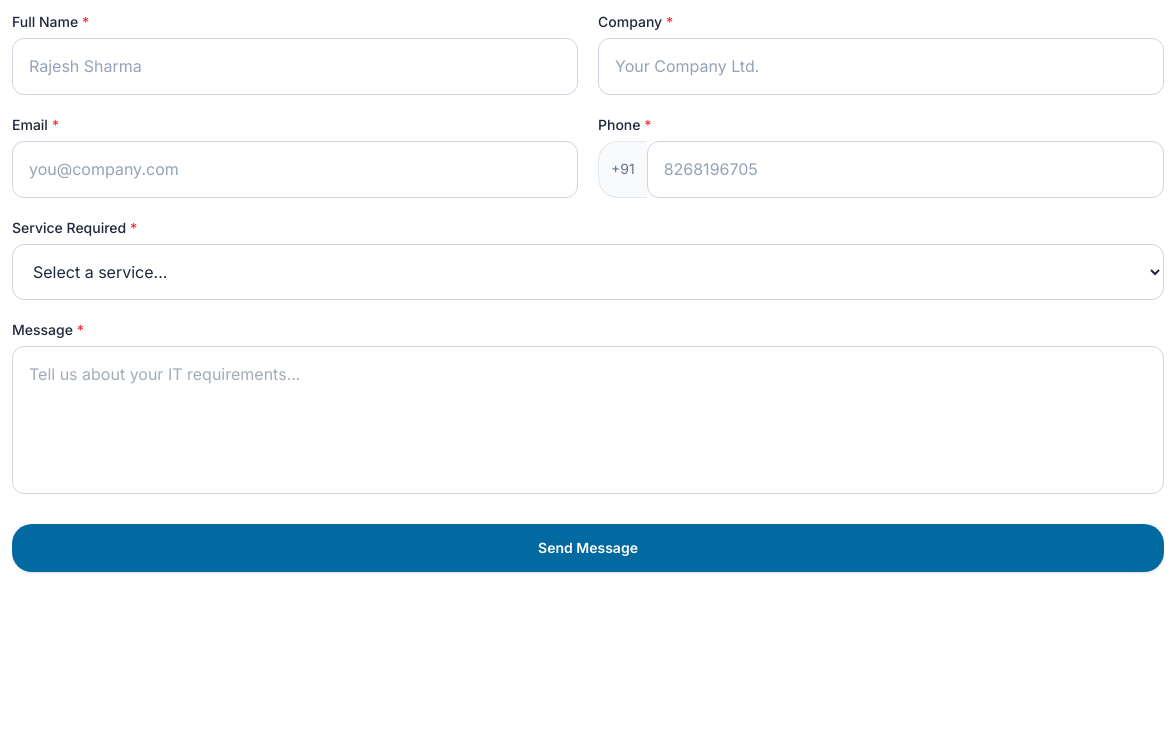
ContactForm › shows validation error for empty full name
The width and height of the screenshot is (1176, 732).
Click the button "Send Message". click: coordinates (588, 548)
box: [12,524,1164,572]
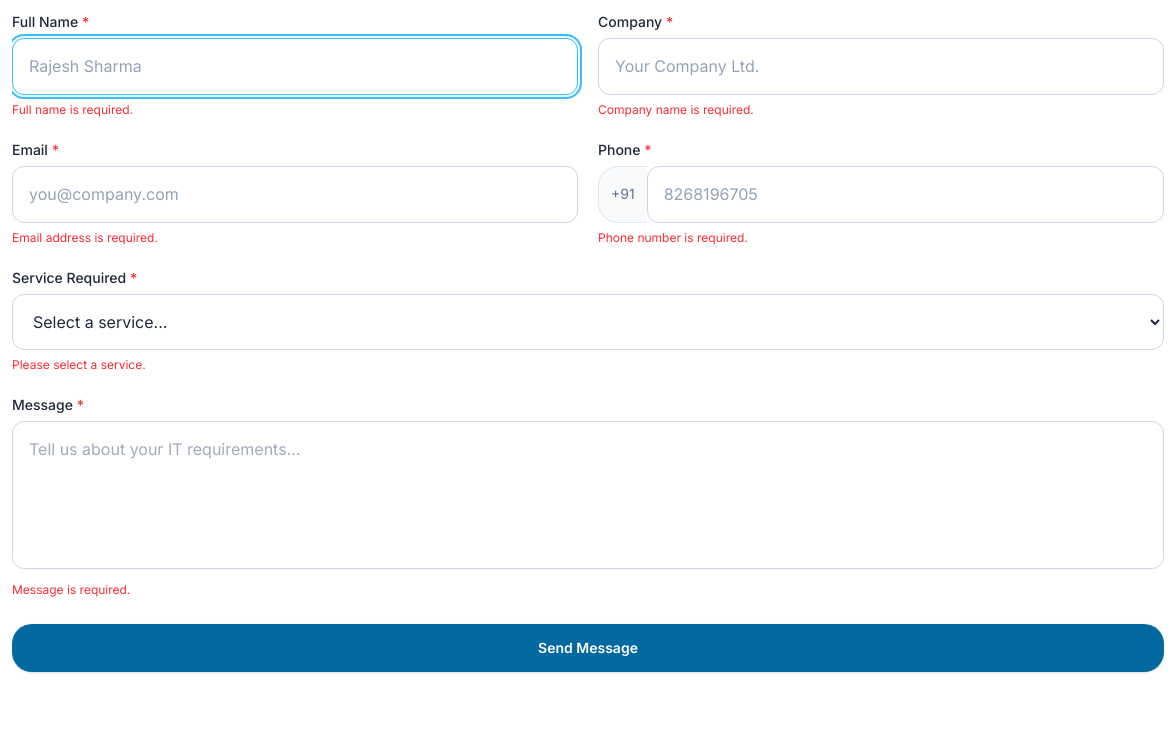
Check: the text "Full name is required." is shown, box [12,102,133,117]
